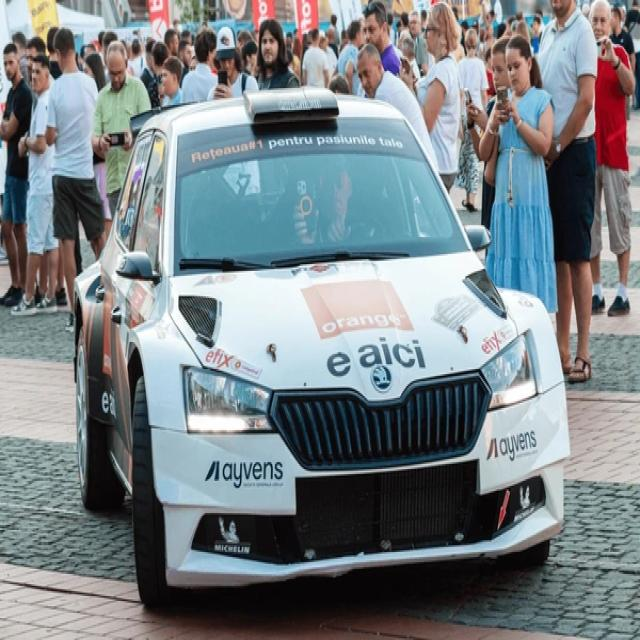skoda: (370, 360, 395, 393)
